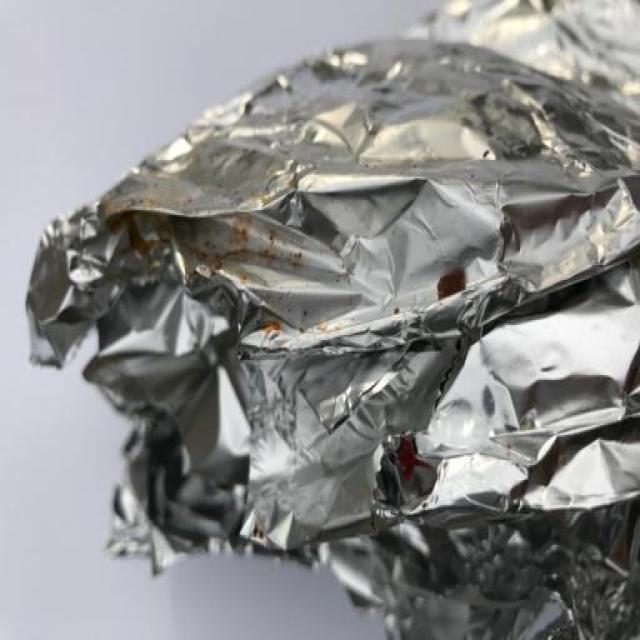metal: (23, 0, 638, 638)
